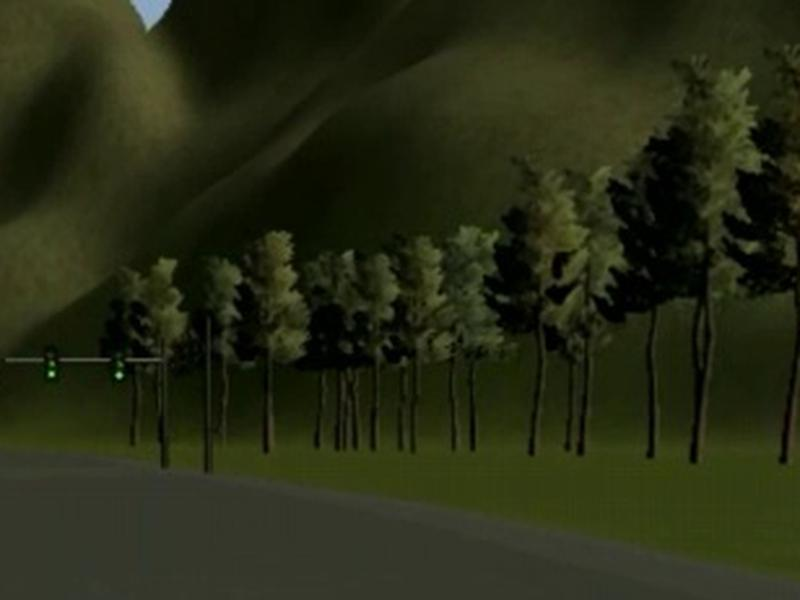Green: (44, 346, 60, 384), (114, 348, 126, 384)
